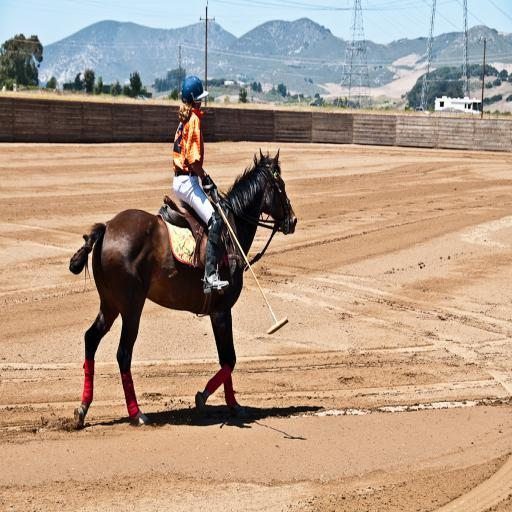horse: (70, 146, 298, 430)
